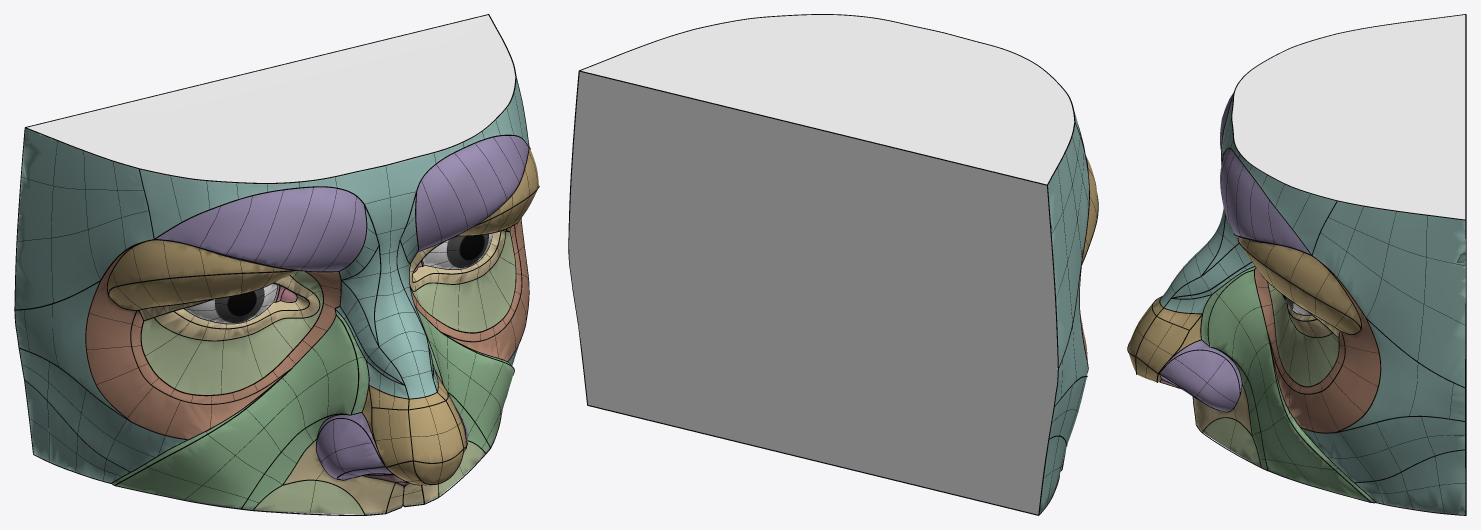
The model's file is 头部分面体_20260324194715_opt.glb.
3 views of the same model, side by side, from view 1: azimuth 30°, elevation 25°; view 2: azimuth 150°, elevation 25°; view 3: azimuth 270°, elevation 25° (orthographic). The views are drawn at different scales.
Visible parts, largest first — view 1: SkylarLow1, SkylarLow1P__cap, SkylarLines; view 2: SkylarLow1P__cap, SkylarLow1, SkylarLines; view 3: SkylarLow1, SkylarLow1P__cap, SkylarLines.
Boxes of the visible parts, bbox=[...] form: SkylarLow1: bbox=[15, 79, 538, 514]; SkylarLow1P__cap: bbox=[27, 15, 515, 182]; SkylarLines: bbox=[14, 14, 539, 515]; SkylarLow1P__cap: bbox=[569, 15, 1074, 514]; SkylarLow1: bbox=[1039, 114, 1097, 513]; SkylarLines: bbox=[568, 14, 1098, 515]; SkylarLow1: bbox=[1128, 94, 1465, 514]; SkylarLow1P__cap: bbox=[1232, 15, 1465, 219]; SkylarLines: bbox=[1127, 14, 1466, 515].
Bounding box in the file's own units: 0.3358 × 0.2184 × 0.2235.
Materials: 3 (1 with a texture image).
